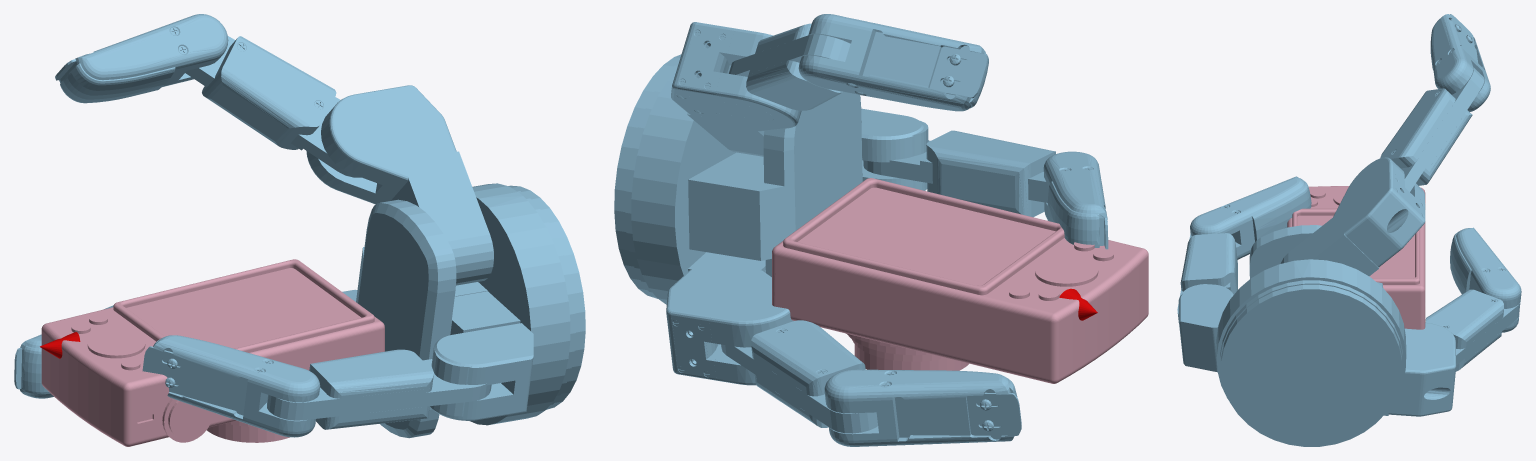
The picture shows the model from 3 angles, left to right: view 1: azimuth 30°, elevation 25°; view 2: azimuth 150°, elevation 25°; view 3: azimuth 270°, elevation 25°; orthographic projection. The views are drawn at different scales.
Visible parts, largest first — view 1: world, camera.stl; view 2: world, camera.stl; view 3: world, camera.stl.
Boxes of the visible parts, x1=… form: world: x1=14, y1=14, x2=585, y2=438; camera.stl: x1=41, y1=259, x2=384, y2=446; world: x1=614, y1=14, x2=1108, y2=446; camera.stl: x1=772, y1=178, x2=1148, y2=383; world: x1=1177, y1=14, x2=1521, y2=446; camera.stl: x1=1287, y1=186, x2=1425, y2=329.
Bounding box in the file's own units: 0.1916 × 0.1558 × 0.1614.
